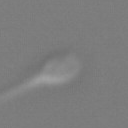normal: (1, 72, 44, 125)
